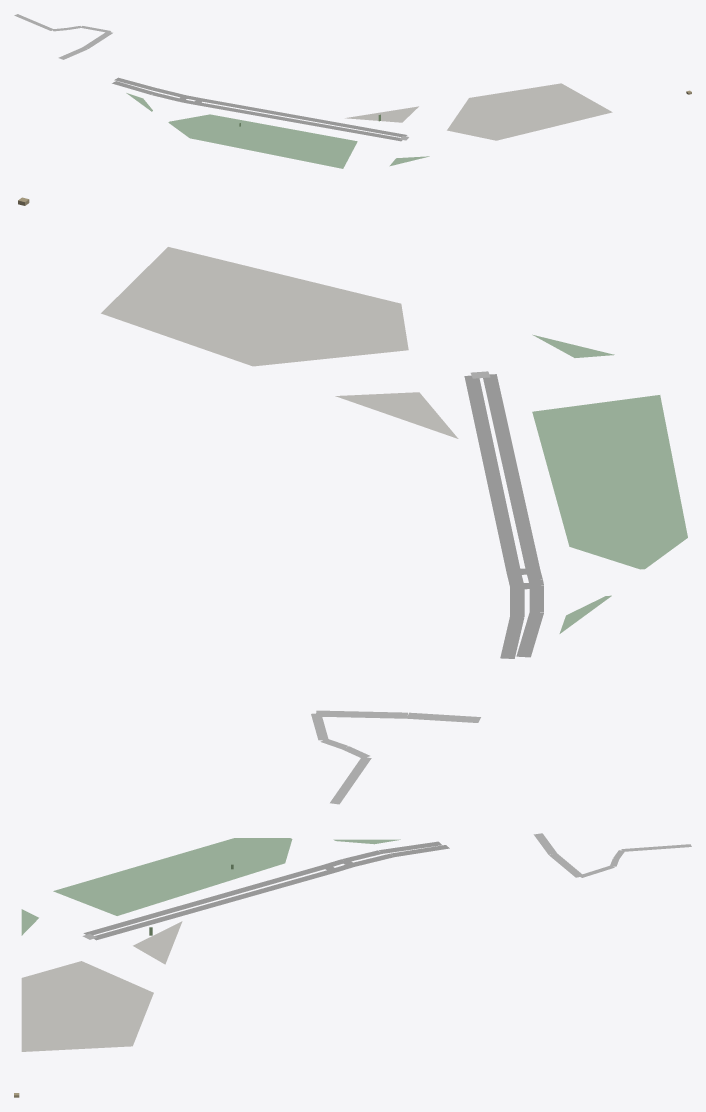
3 views of the same model, one above another, from view 1: azimuth 30°, elevation 25°; view 2: azimuth 150°, elevation 25°; view 3: azimuth 270°, elevation 25° (orthographic). The views are drawn at different scales.
Bounding box in the file's own units: 477 × 14.32 × 499.
